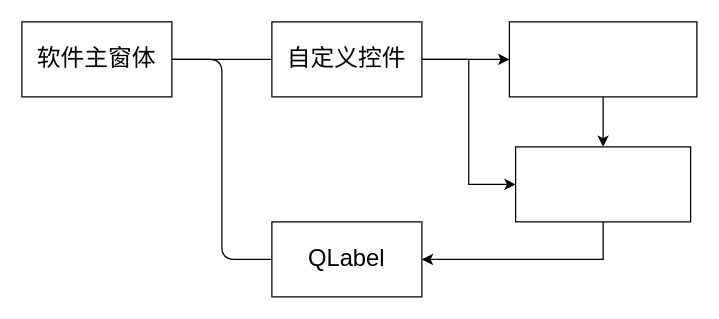
Image size: 719x319. Some labels were removed from this diagram. The shapes that lost their labels are listed below. From the top down, each one's centre as x and y in pixels, then its label:
the point at 602,59: 全局变量与常量
the point at 602,184: 图片处理方法
